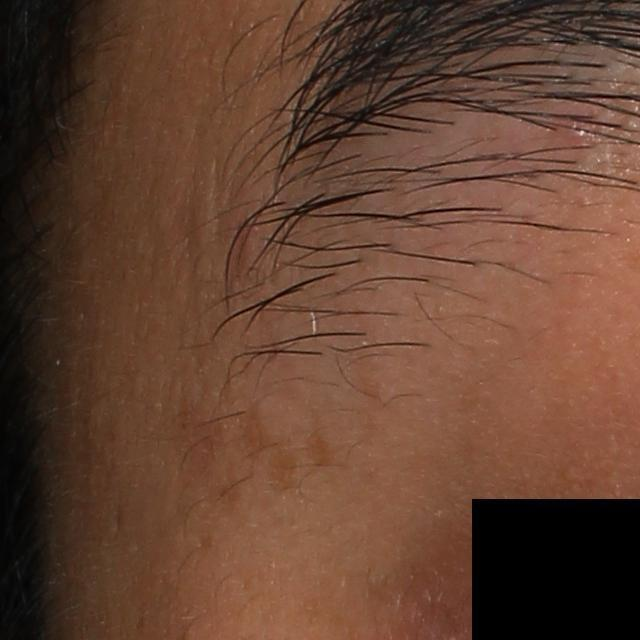melasma: (172, 394, 229, 489), (292, 409, 341, 471), (234, 397, 274, 467), (264, 435, 305, 493)
